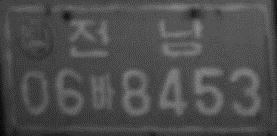0: (19, 68, 49, 116)
3: (229, 66, 261, 118)
4: (156, 67, 187, 117)
5: (193, 67, 226, 114)
6: (53, 67, 85, 116)
8: (119, 67, 151, 117)
바: (88, 71, 114, 112)
영: (14, 18, 57, 60)
전남_D: (67, 17, 207, 61)
